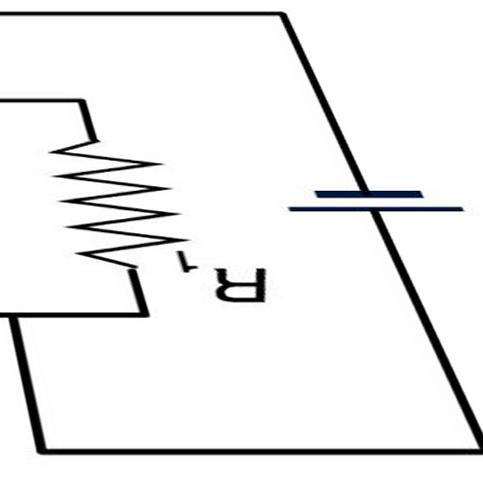resistor: (24, 116, 186, 259)
